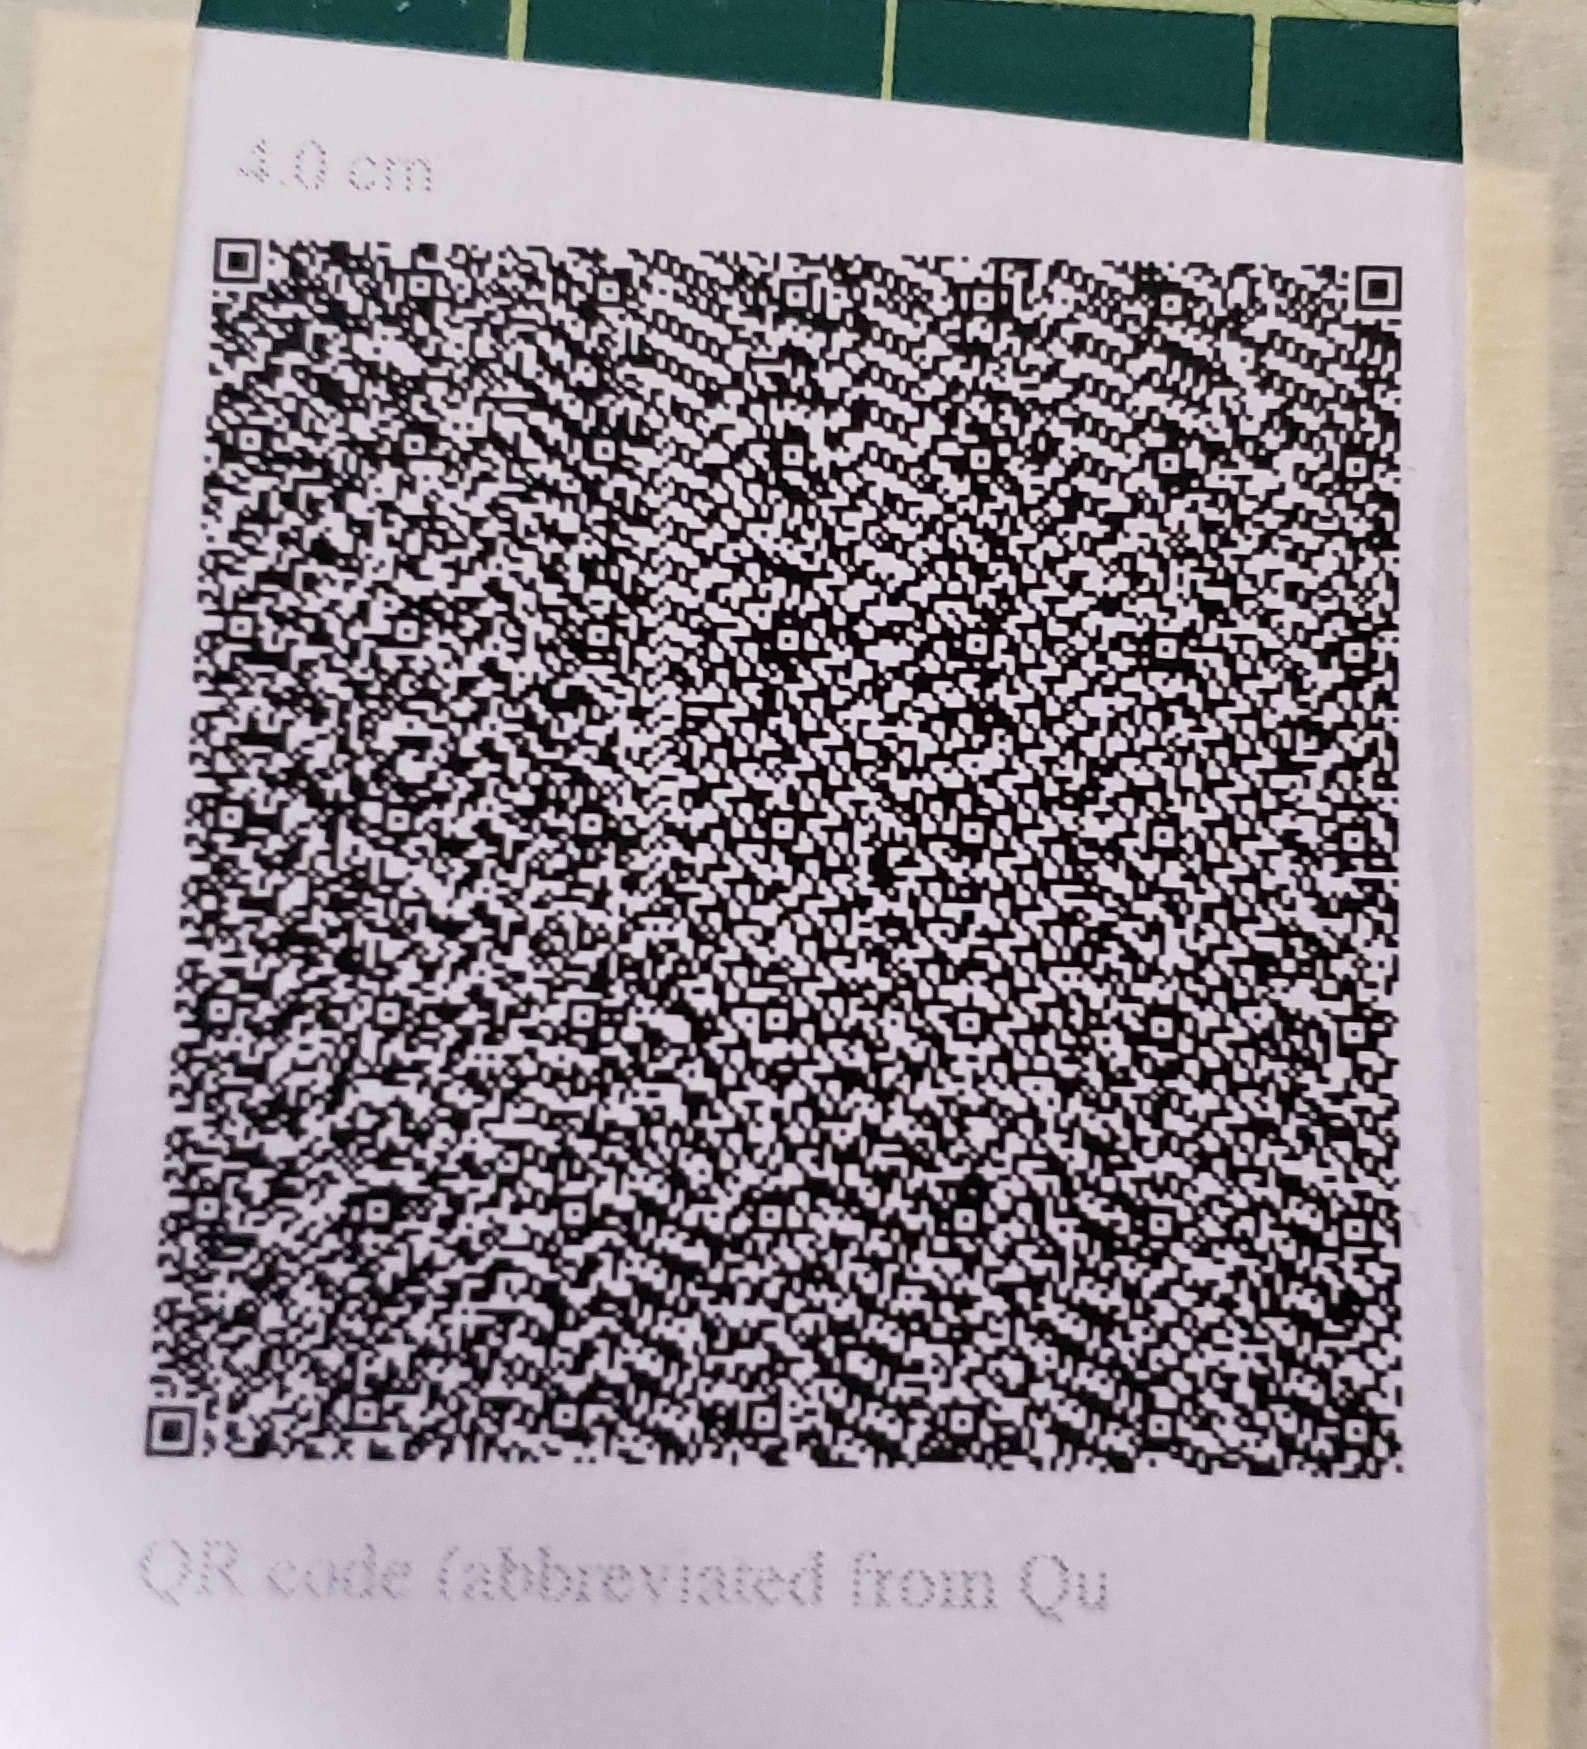QR_CODE: (107, 129, 1506, 1534)
